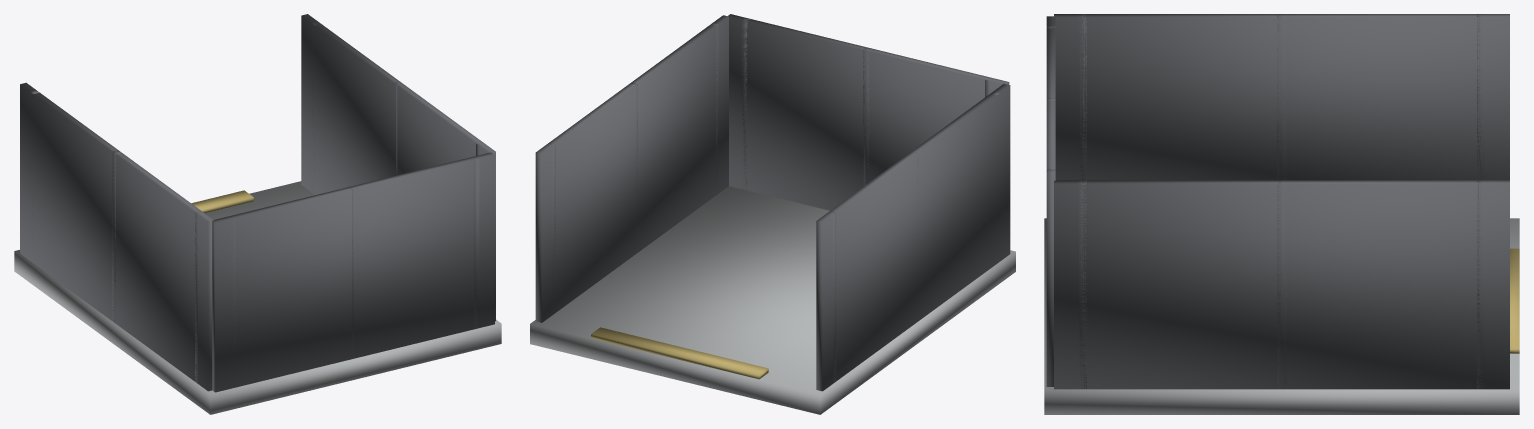
The model's file is floor_w180_d210_three.glb.
The picture shows the model from 3 angles, left to right: view 1: azimuth 30°, elevation 25°; view 2: azimuth 150°, elevation 25°; view 3: azimuth 270°, elevation 25°; orthographic projection. The views are drawn at different scales.
Visible parts, largest first — view 1: world; view 2: world; view 3: world.
Boxes of the visible parts, box(x1,y1,x2,y2) form: world: box(14, 14, 501, 414); world: box(530, 14, 1015, 414); world: box(1044, 14, 1519, 414).
Bounding box in the file's own units: 1.8 × 1.12 × 2.1.
